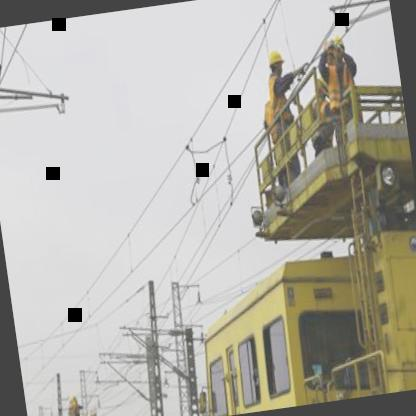helmet: (264, 43, 288, 80)
